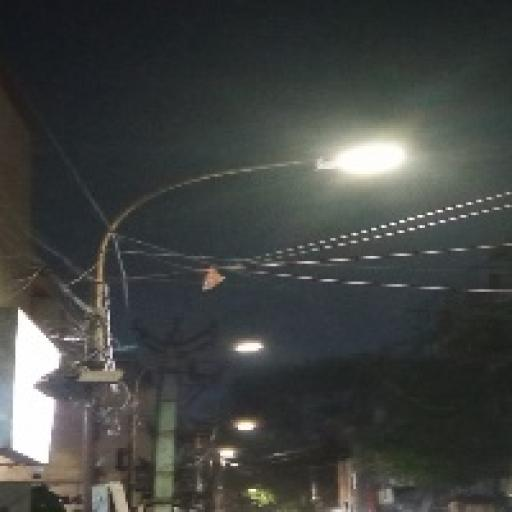Working: (300, 131, 418, 190)
